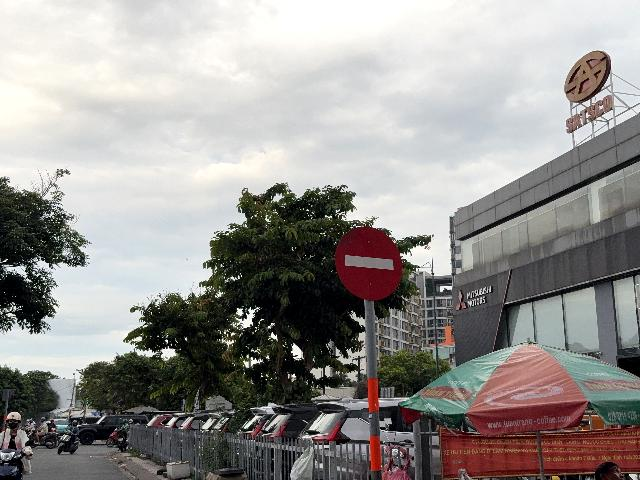cam-di-nguoc-chieu: (336, 227, 402, 302)
